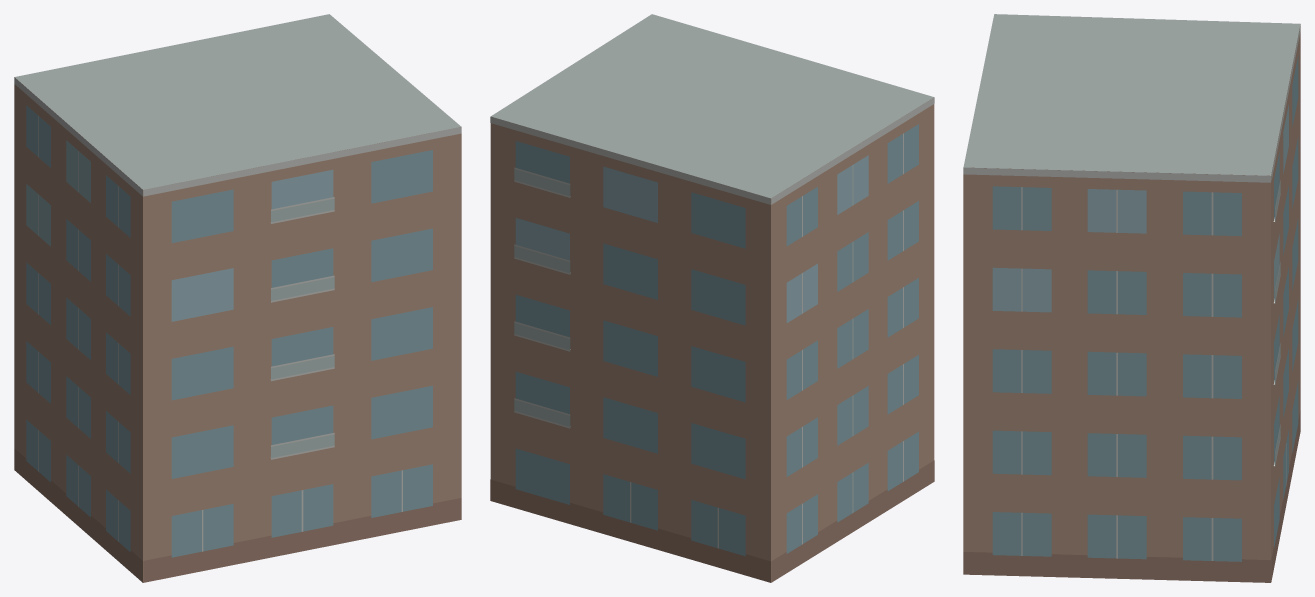
Rendered from survey-upis-32963775.glb.
3 views of the same model, side by side, from view 1: azimuth 30°, elevation 25°; view 2: azimuth 150°, elevation 25°; view 3: azimuth 270°, elevation 25° (orthographic). The views are drawn at different scales.
Parts seen in each view (by area): view 1: survey-upis-32963775.tmp; view 2: survey-upis-32963775.tmp; view 3: survey-upis-32963775.tmp.
Boxes of the visible parts, box(x1,y1,x2,y2) form: survey-upis-32963775.tmp: box(14, 14, 461, 582); survey-upis-32963775.tmp: box(490, 14, 934, 582); survey-upis-32963775.tmp: box(963, 14, 1300, 582).
Bounding box in the file's own units: 12.16 × 14.25 × 10.71.
